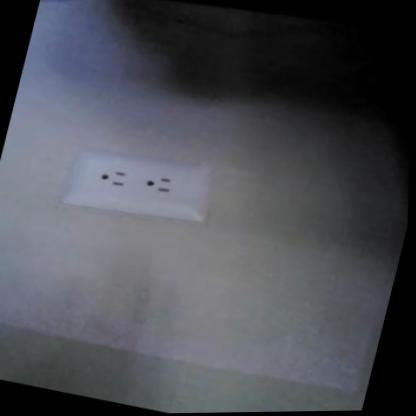OUTLET: (57, 136, 217, 232)
